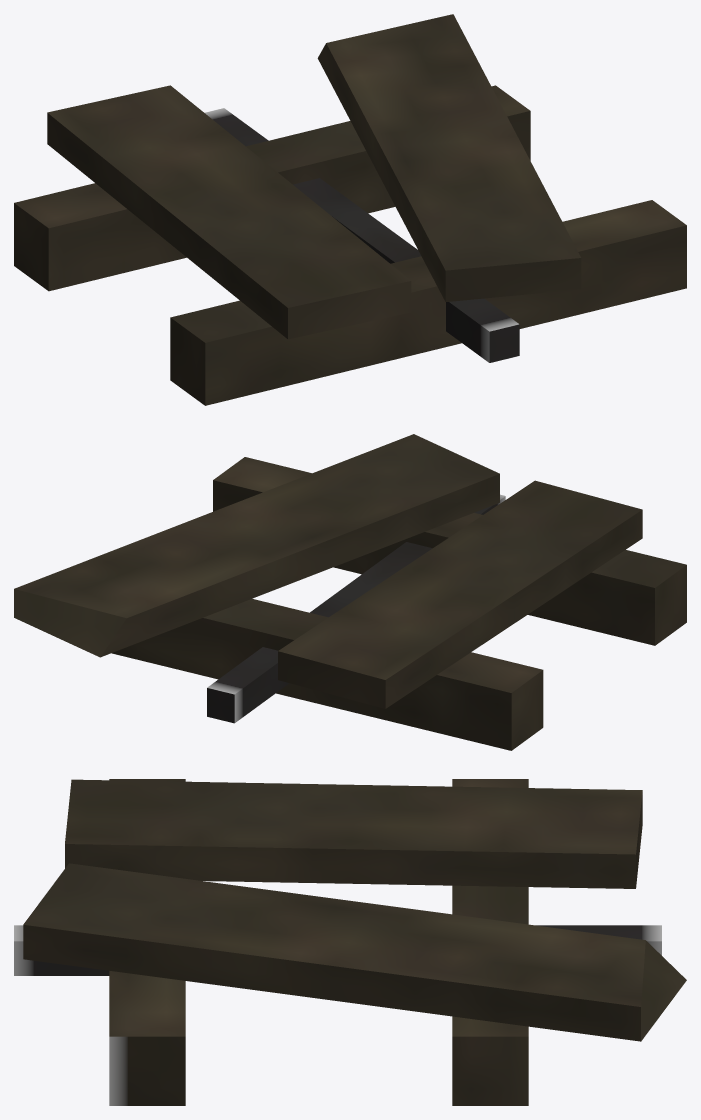
File: wooden_catwalk_2.obj
3 renders of one model, top to bottom at view 1: azimuth 30°, elevation 25°; view 2: azimuth 150°, elevation 25°; view 3: azimuth 270°, elevation 25°, orthographic. The views are drawn at different scales.
Visible parts, largest first — view 1: cube; view 2: cube; view 3: cube.
Boxes of the visible parts, <box> form: cube: <box>14,14,686,405</box>; cube: <box>14,434,686,750</box>; cube: <box>14,779,686,1105</box>.
Bounding box in the file's own units: 1.02 × 0.1875 × 1.1.
